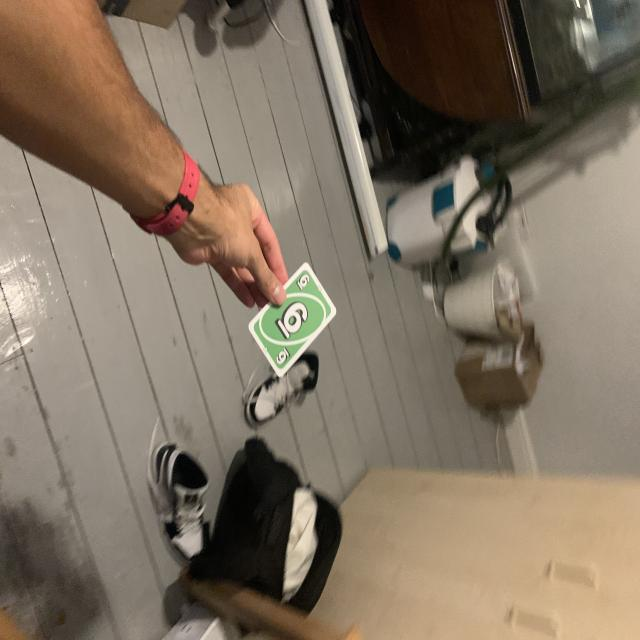lgreen-6: (294, 272, 312, 294)
